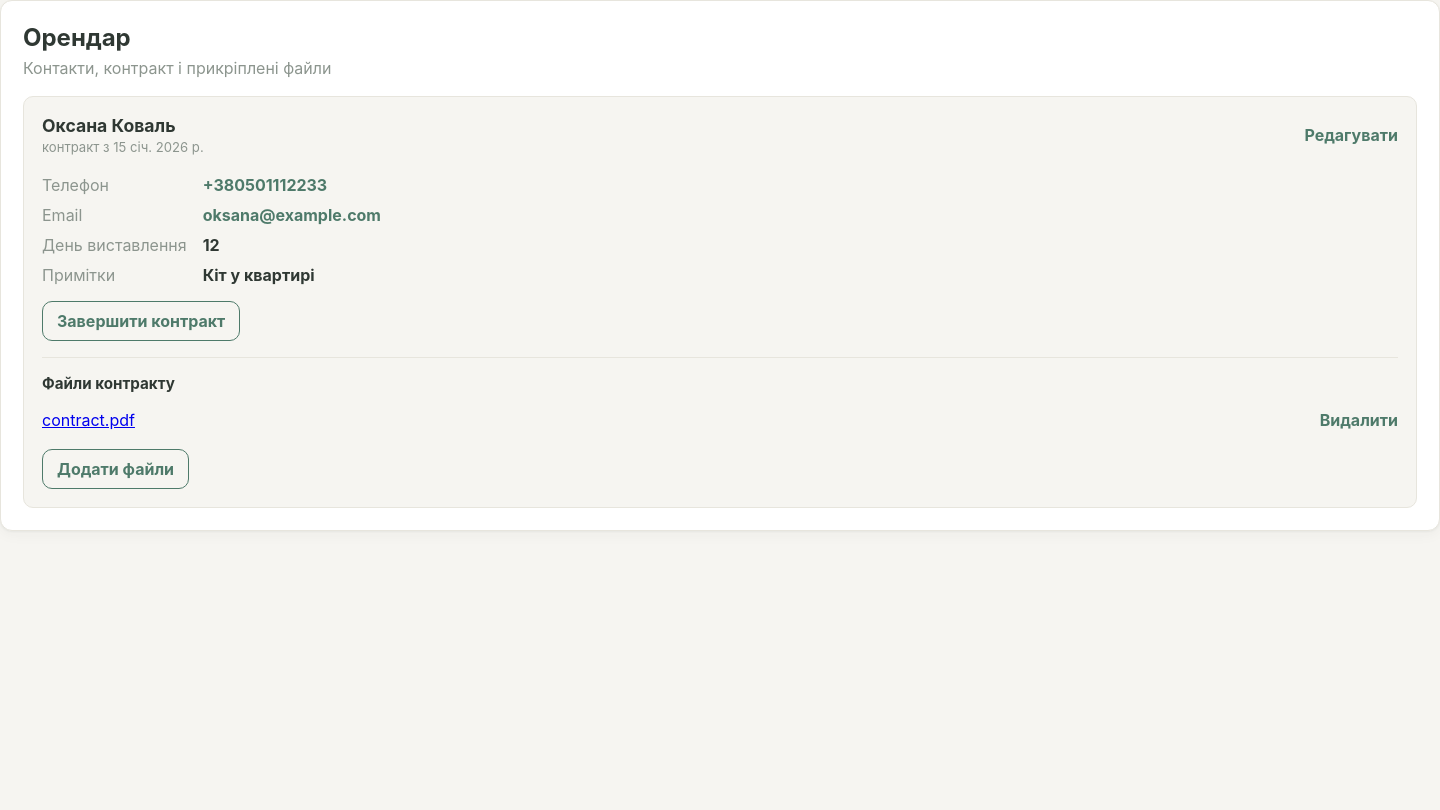
Test: TenantSection › shows the new tenant form after ending the active contract
The image size is (1440, 810).
Click the button "Завершити контракт" at (141, 321), box x1=42 y1=301 x2=240 y2=341
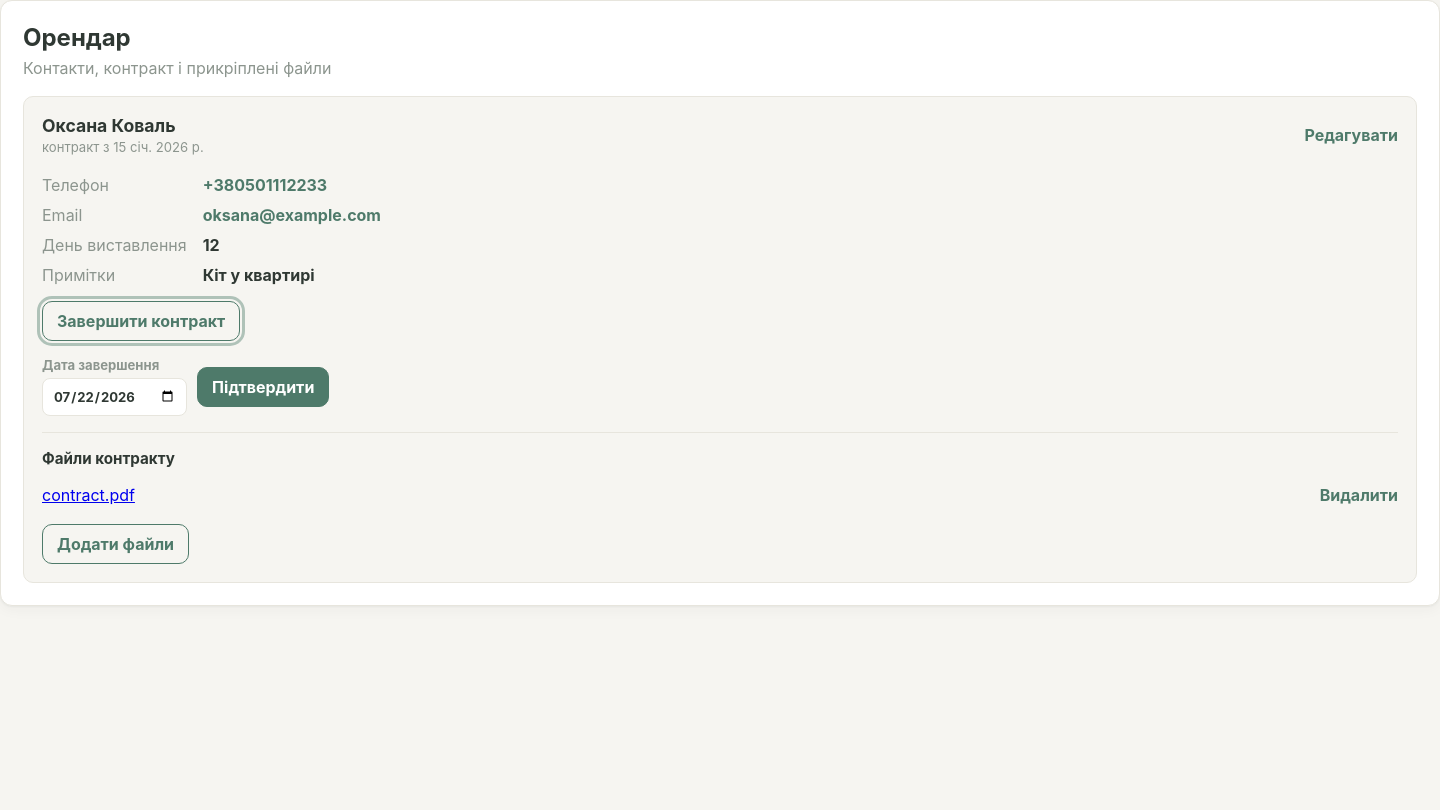
Type "2026-07-16" into the date field named "Дата завершення контракту" at (115, 397), box x1=42 y1=378 x2=187 y2=416
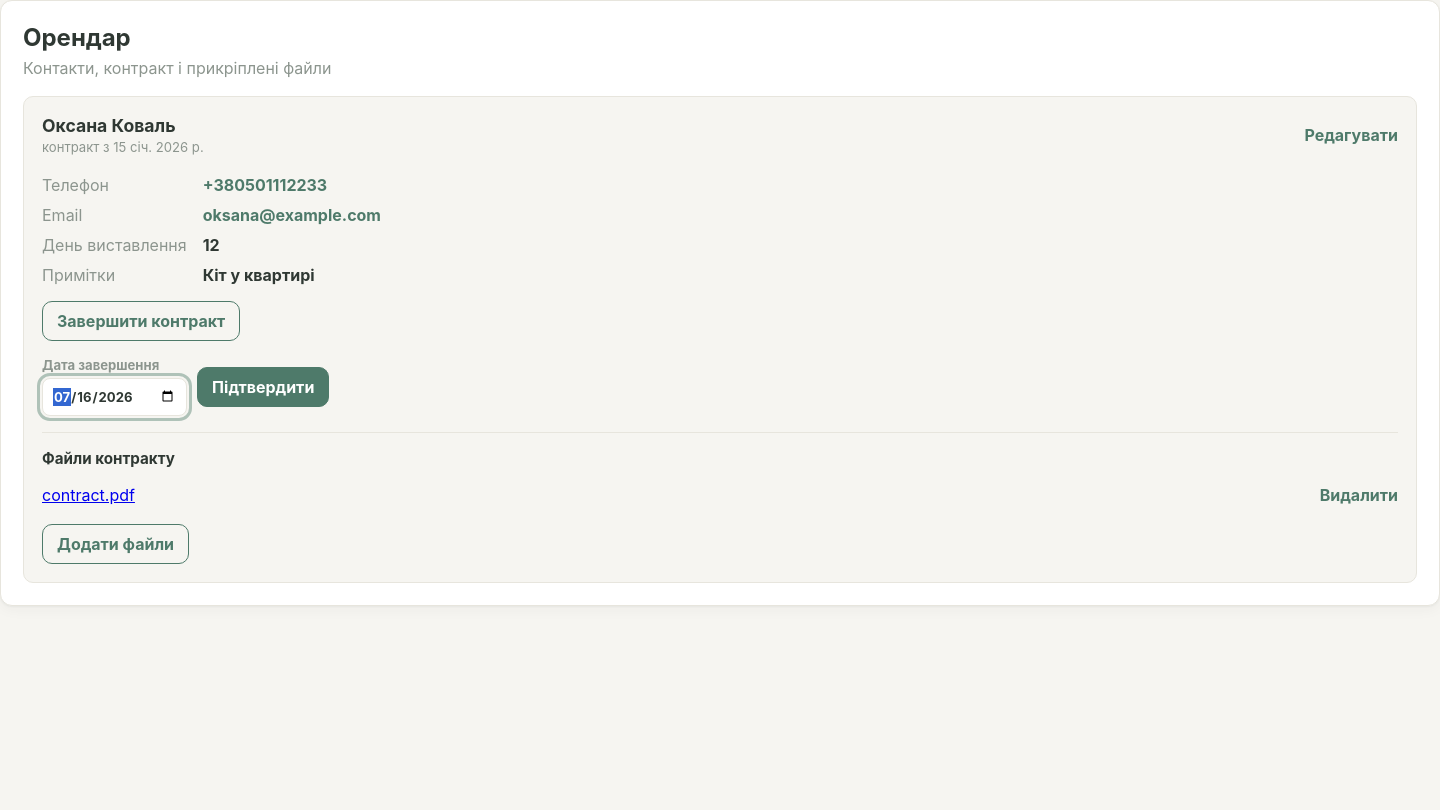
Click the button "Підтвердити" at (263, 386), box x1=197 y1=366 x2=329 y2=406
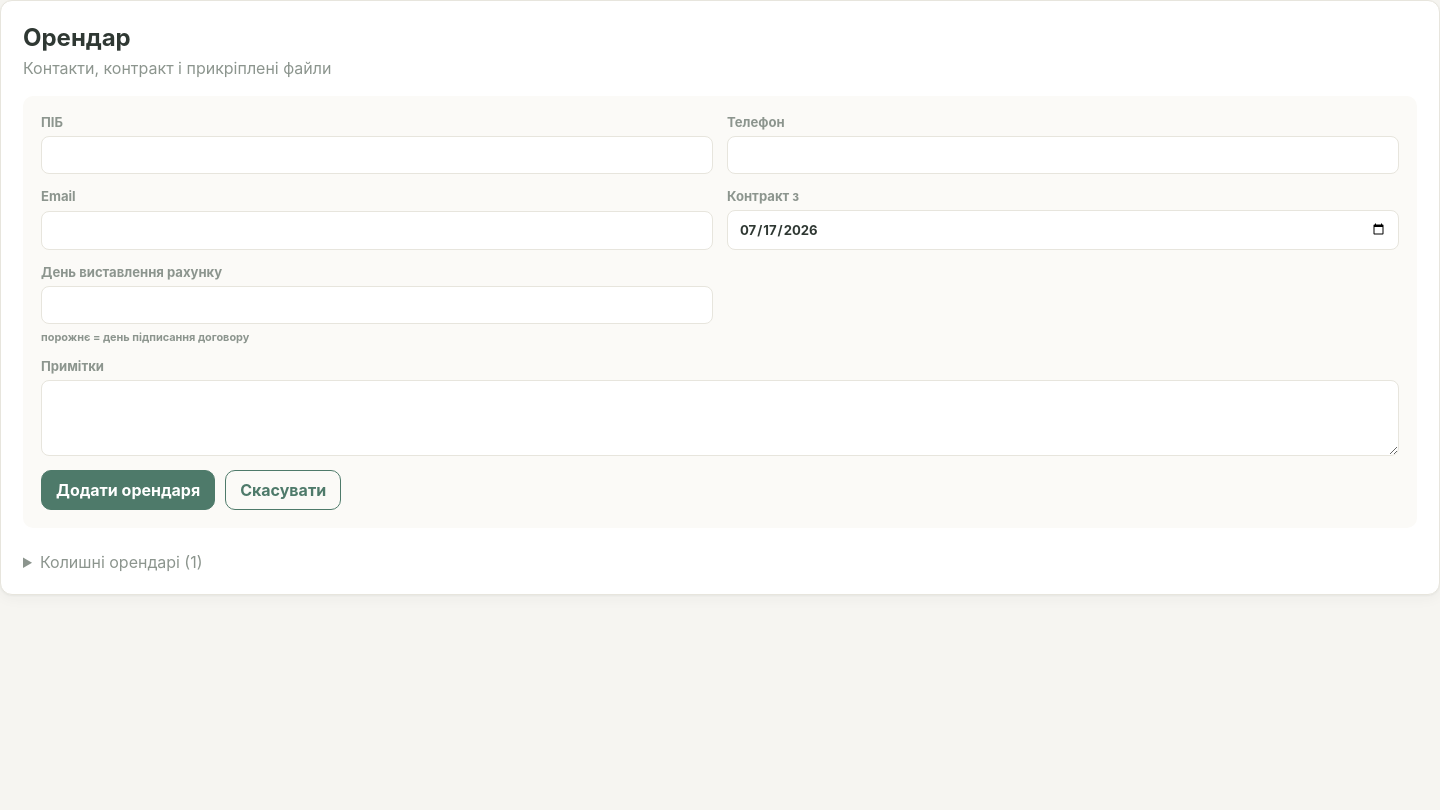
Now the field labelled "ПІБ" is shown, box x1=41 y1=136 x2=713 y2=174
Now the date field labelled "Контракт з" holds "2026-07-17", box x1=727 y1=210 x2=1399 y2=250
Now the button "Додати орендаря" is shown, box x1=41 y1=470 x2=215 y2=510
